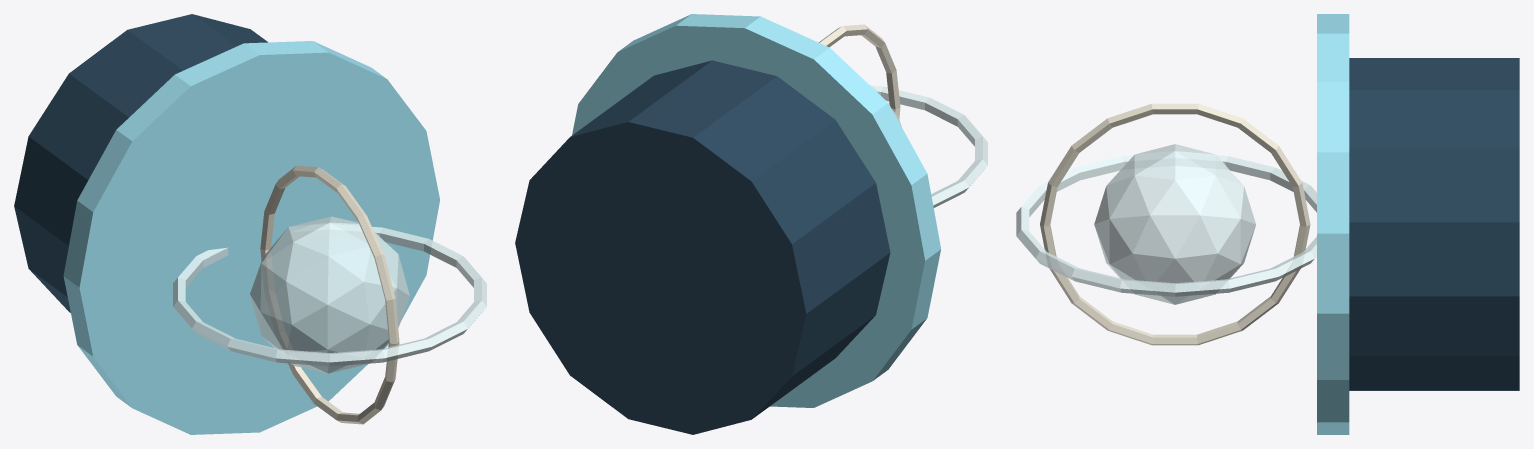
Rendered from 09_high_tier_relic_pedestal.glb.
3 renders of one model, left to right at view 1: azimuth 30°, elevation 25°; view 2: azimuth 150°, elevation 25°; view 3: azimuth 270°, elevation 25°, orthographic.
Parts seen in each view (by area): view 1: top_rim, relic_pedestal, floating_relic_core, relic_orbit_a, relic_orbit_b; view 2: relic_pedestal, top_rim, relic_orbit_a, relic_orbit_b; view 3: relic_pedestal, floating_relic_core, top_rim, relic_orbit_b, relic_orbit_a.
Part boxes in pixels (x1,y1,x2,y2): top_rim: [63, 41, 439, 434]; relic_pedestal: [14, 14, 267, 312]; floating_relic_core: [250, 216, 409, 373]; relic_orbit_a: [173, 226, 486, 366]; relic_orbit_b: [260, 165, 399, 424]; relic_pedestal: [515, 60, 890, 434]; top_rim: [572, 14, 940, 407]; relic_orbit_a: [871, 85, 987, 207]; relic_orbit_b: [819, 24, 900, 119]; relic_pedestal: [1349, 58, 1519, 390]; floating_relic_core: [1094, 144, 1255, 304]; top_rim: [1317, 14, 1349, 434]; relic_orbit_b: [1040, 103, 1310, 345]; relic_orbit_a: [1016, 155, 1316, 296].
Size of the model in its own units: 1.04 by 1.04 by 1.24.
